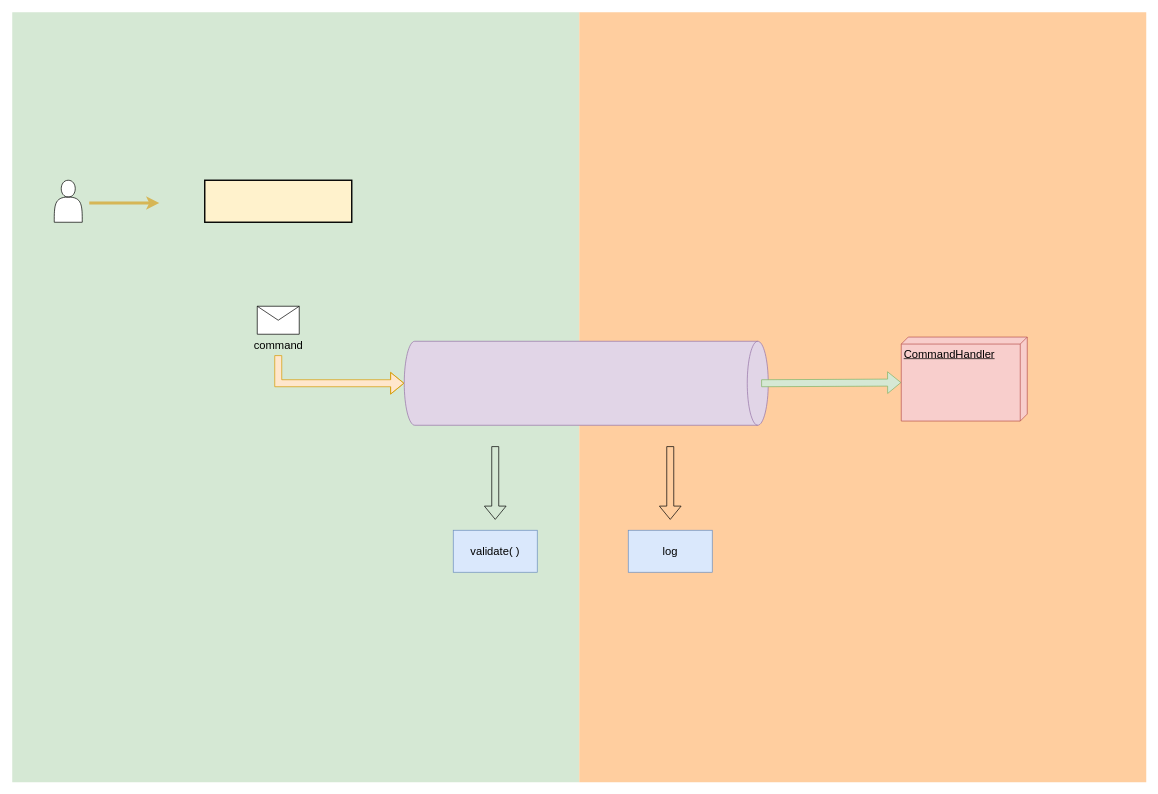
Some shapes in this 1158 by 794 pixel diagram are drawn without their labels. The shapes that lost their labels are listed below. From the top down, each one's box as (x1, y1, x2, y2) in pixels, then its label:
(204, 179, 352, 223): REST Controller
(404, 341, 768, 425): COMMAND BUS
